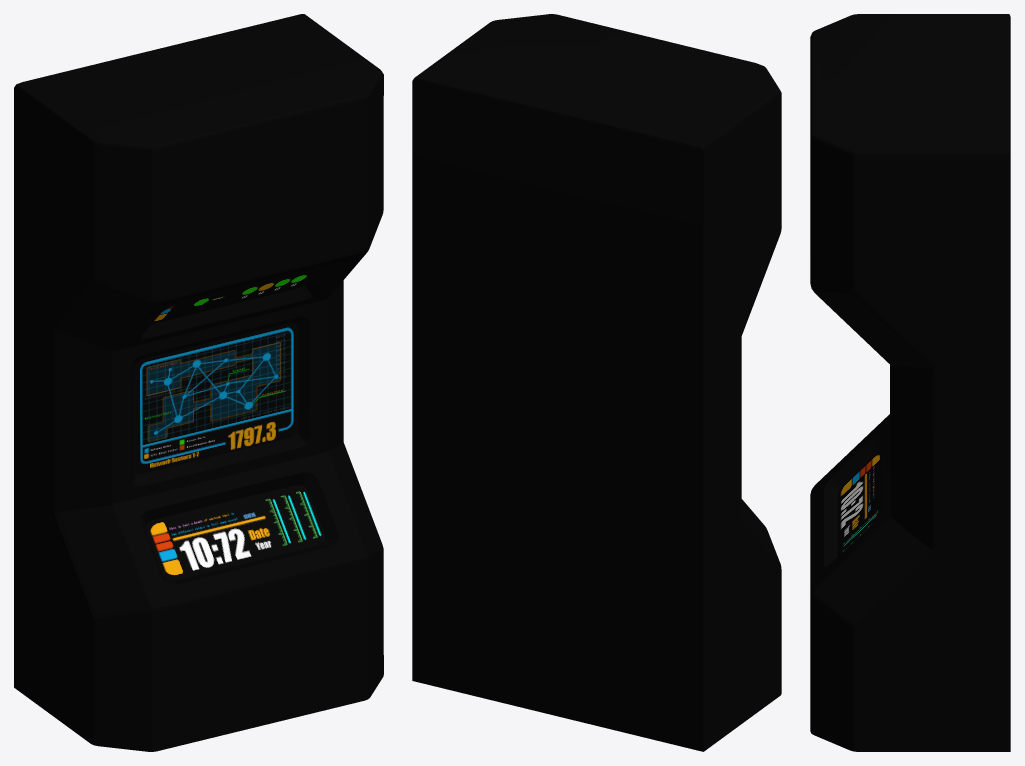
Rendered from termal.glb.
3 views of the same model, side by side, from view 1: azimuth 30°, elevation 25°; view 2: azimuth 150°, elevation 25°; view 3: azimuth 270°, elevation 25° (orthographic).
Visible parts, largest first — view 1: Quest_Scifi_Terminal; view 2: Quest_Scifi_Terminal; view 3: Quest_Scifi_Terminal.
Boxes of the visible parts, box(x1,y1,x2,y2) form: Quest_Scifi_Terminal: box(14, 14, 383, 751); Quest_Scifi_Terminal: box(412, 14, 781, 751); Quest_Scifi_Terminal: box(810, 14, 1010, 751).
Bounding box in the file's own units: 1.49 × 2.95 × 0.8914.
Materials: 1 (1 with a texture image).
